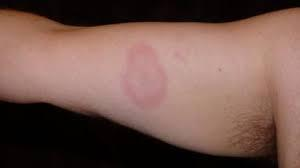Tick: (109, 40, 176, 116)
